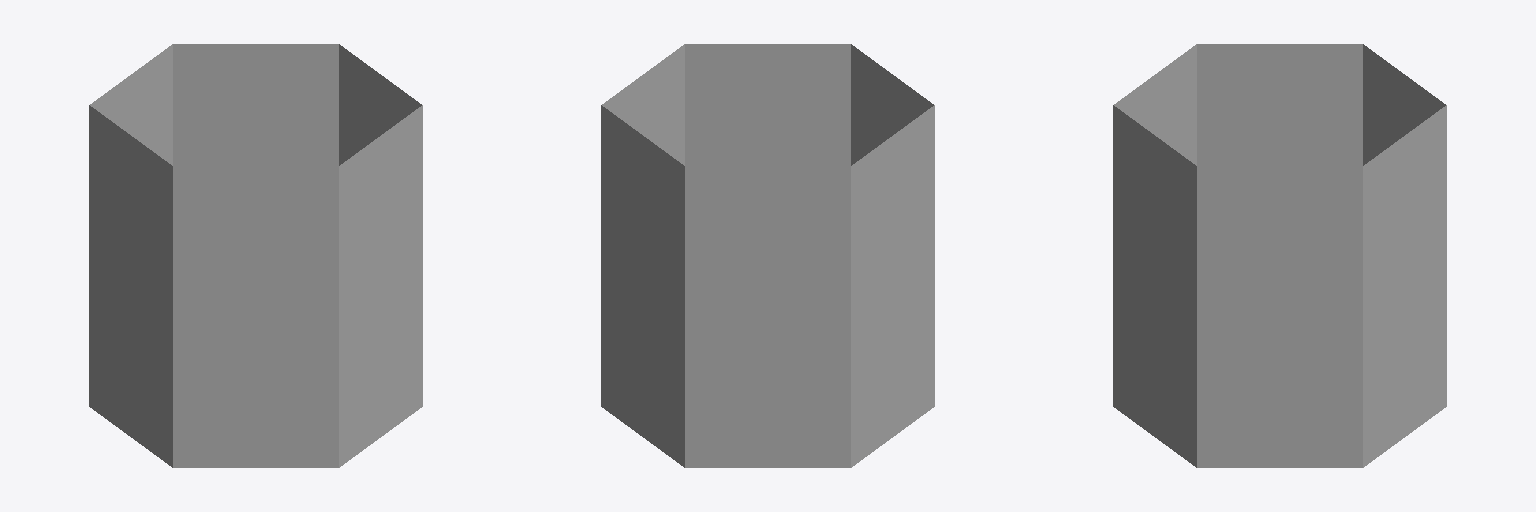
The model's file is Hex Cylinder.obj.
The picture shows the model from 3 angles: view 1: azimuth 30°, elevation 25°; view 2: azimuth 150°, elevation 25°; view 3: azimuth 270°, elevation 25°; orthographic projection.
Parts seen in each view (by area): view 1: Cylinder_Inside, Cylinder_Outside; view 2: Cylinder_Inside, Cylinder_Outside; view 3: Cylinder_Inside, Cylinder_Outside.
Part boxes in pixels (bbox=[...]): Cylinder_Inside: bbox=[89, 44, 422, 467]; Cylinder_Outside: bbox=[89, 44, 422, 467]; Cylinder_Inside: bbox=[601, 44, 934, 467]; Cylinder_Outside: bbox=[601, 44, 934, 467]; Cylinder_Inside: bbox=[1113, 44, 1446, 467]; Cylinder_Outside: bbox=[1113, 44, 1446, 467].
Size of the model in its own units: 1.73 by 2 by 2.